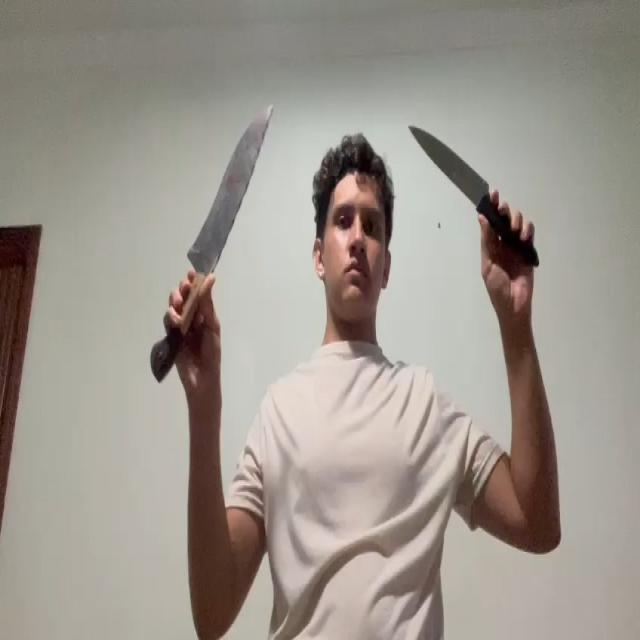knife: (188, 105, 272, 268), (408, 124, 488, 202)
